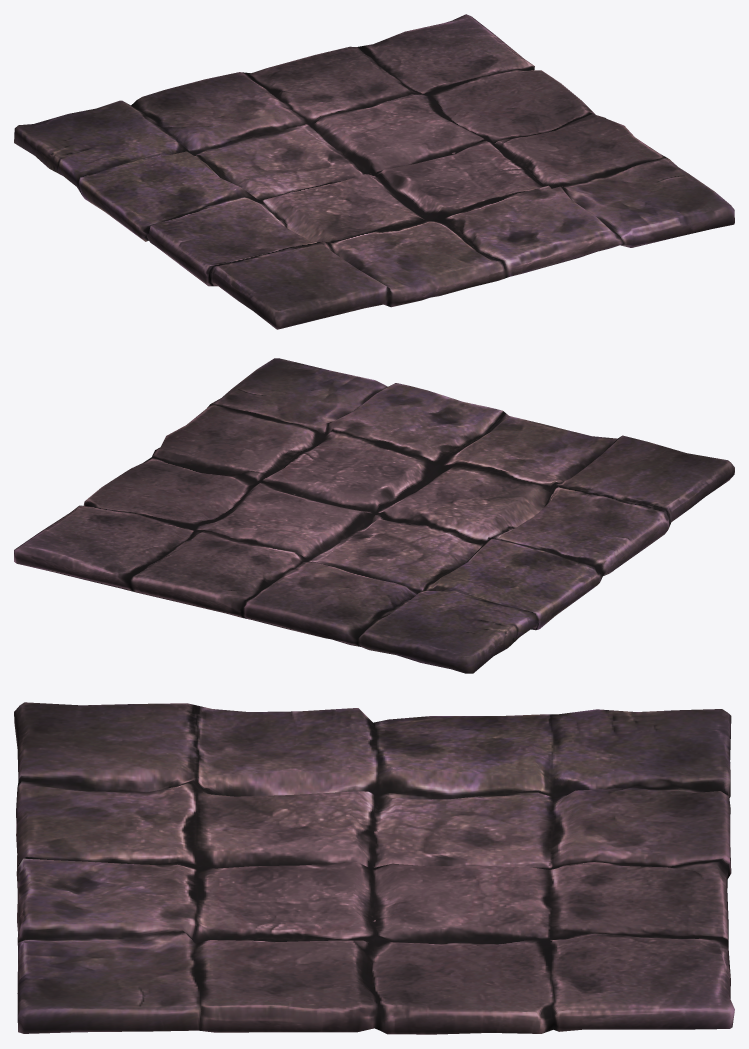
The model's file is floor.FBX.
The picture shows the model from 3 angles, top to bottom: view 1: azimuth 30°, elevation 25°; view 2: azimuth 150°, elevation 25°; view 3: azimuth 270°, elevation 25°; orthographic projection. The views are drawn at different scales.
Parts seen in each view (by area): view 1: floor retopo01; view 2: floor retopo01; view 3: floor retopo01.
Boxes of the visible parts, box(x1,y1,x2,y2) form: floor retopo01: box(14, 14, 734, 329); floor retopo01: box(14, 358, 734, 673); floor retopo01: box(14, 702, 734, 1034).
Bounding box in the file's own units: 186 × 187 × 10.77.
Materials: 1 (1 with a texture image).
